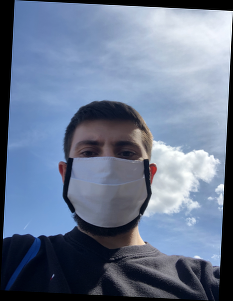with_mask: (63, 134, 152, 236)
